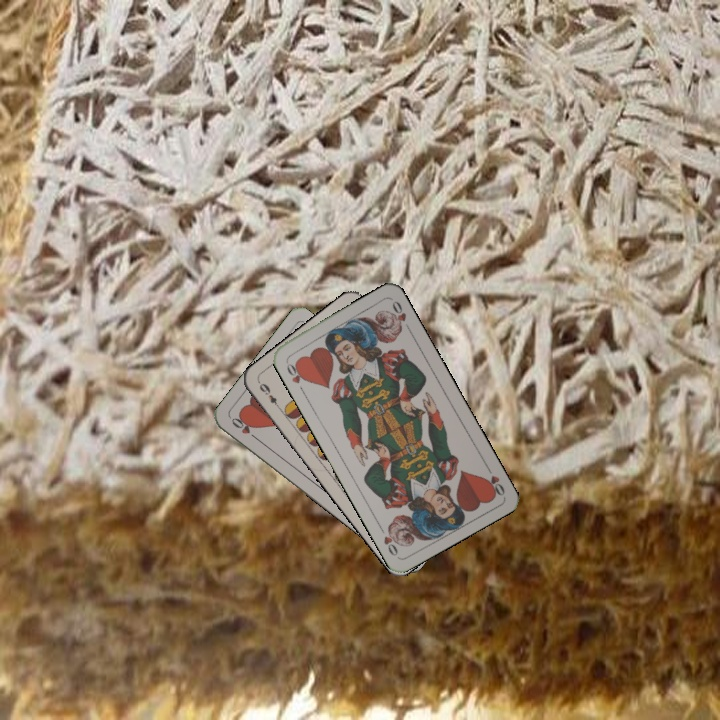E9: (255, 379, 284, 413)
HO: (282, 357, 309, 395), (227, 413, 261, 443), (481, 461, 507, 499)
